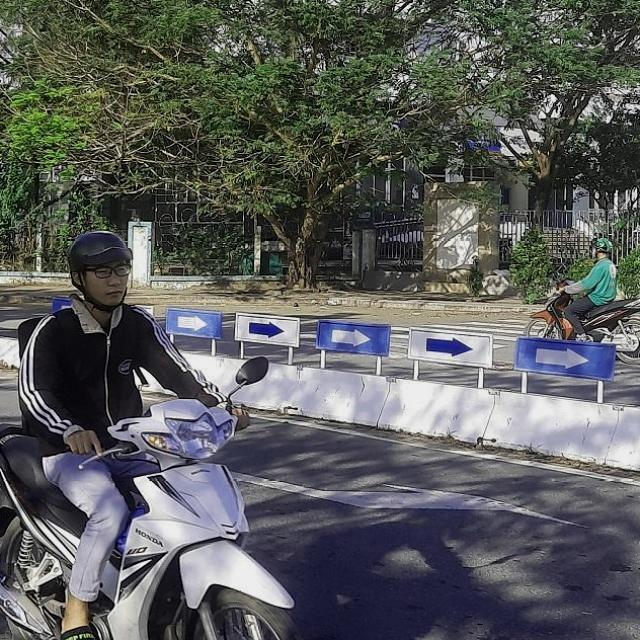Helmet: (69, 231, 136, 310), (588, 236, 613, 262)
